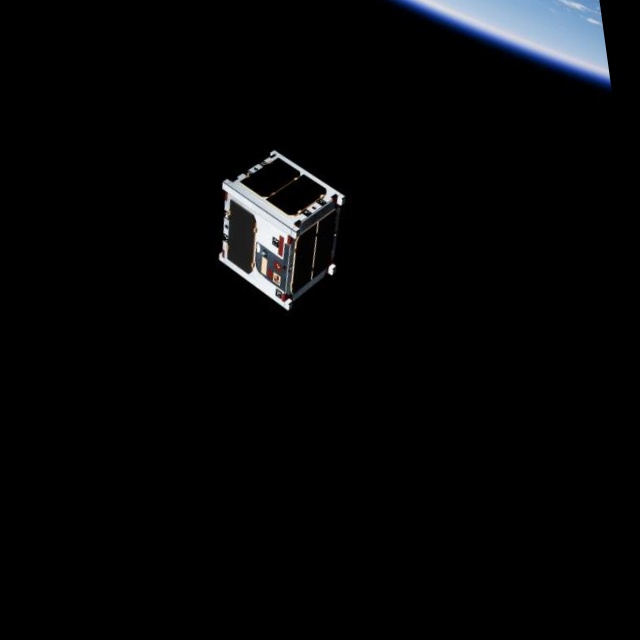medium_debris: (204, 133, 364, 327)
